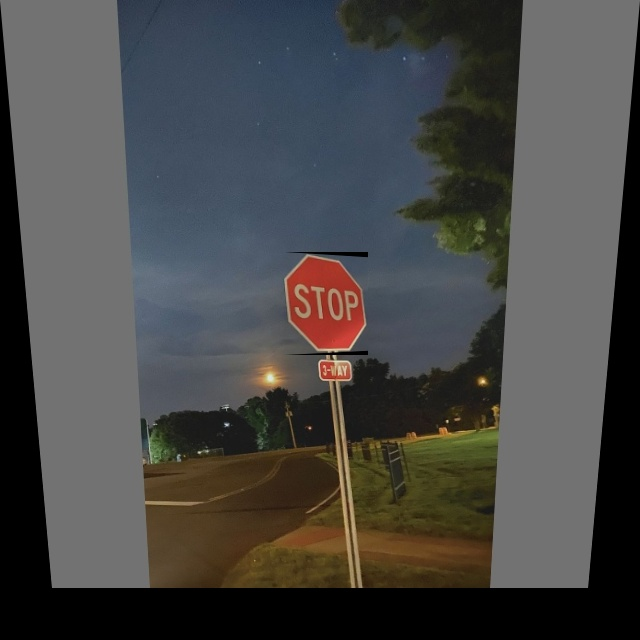Stop: (284, 252, 368, 355)
